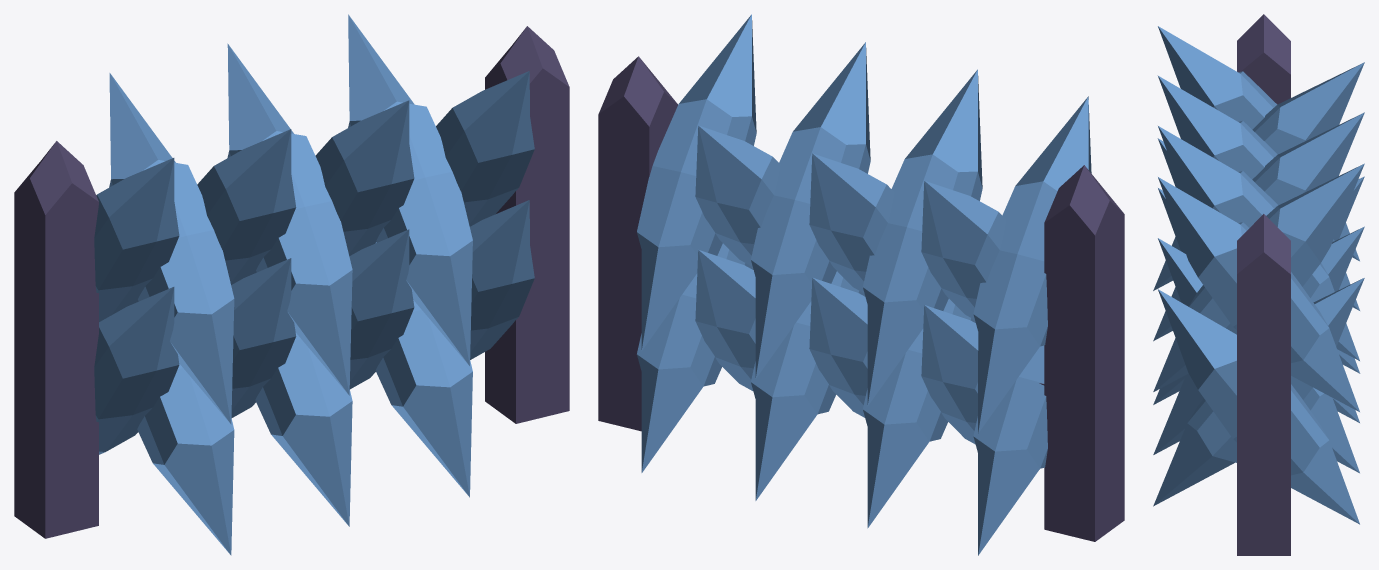
File: spikeyFence.glb
3 renders of one model, left to right at view 1: azimuth 30°, elevation 25°; view 2: azimuth 150°, elevation 25°; view 3: azimuth 270°, elevation 25°, orthographic. The views are drawn at different scales.
Parts seen in each view (by area): view 1: Cube.001, Cube.002, Cube.013, Cube.014, Cube.015, Cube.018, Cube.017, Cube.016, Cube.008, Cube.011, Cube.006, Cube.007 (+4 smaller); view 2: Cube.001, Cube.002, Cube.008, Cube.007, Cube.004, Cube.006, Cube.011, Cube.009, Cube.010, Cube.012, Cube.013, Cube.014 (+4 smaller); view 3: Cube.002, Cube.008, Cube.009, Cube.013, Cube.007, Cube.018, Cube.004, Cube.006, Cube.014, Cube.015, Cube.001, Cube.010 (+4 smaller).
Boxes of the visible parts, <box> form: Cube.001: <box>14,141,98,538</box>; Cube.002: <box>485,26,569,423</box>; Cube.013: <box>348,14,472,365</box>; Cube.014: <box>227,43,352,395</box>; Cube.015: <box>109,73,234,424</box>; Cube.018: <box>375,242,472,497</box>; Cube.017: <box>255,333,352,526</box>; Cube.016: <box>137,364,234,555</box>; Cube.008: <box>436,71,534,226</box>; Cube.011: <box>94,287,179,454</box>; Cube.006: <box>94,158,179,321</box>; Cube.007: <box>315,100,414,255</box>; Cube.001: <box>1044,165,1124,541</box>; Cube.002: <box>598,56,677,431</box>; Cube.008: <box>637,14,756,350</box>; Cube.007: <box>751,42,870,378</box>; Cube.004: <box>863,69,982,405</box>; Cube.006: <box>973,96,1091,433</box>; Cube.011: <box>973,345,1047,555</box>; Cube.009: <box>637,243,753,472</box>; Cube.010: <box>751,271,865,500</box>; Cube.012: <box>863,299,975,528</box>; Cube.013: <box>695,125,780,266</box>; Cube.014: <box>809,153,894,293</box>; Cube.002: <box>1237,214,1290,555</box>; Cube.008: <box>1158,177,1359,411</box>; Cube.009: <box>1158,289,1359,524</box>; Cube.013: <box>1153,163,1364,391</box>; Cube.007: <box>1158,126,1359,360</box>; Cube.018: <box>1153,278,1364,506</box>; Cube.004: <box>1157,75,1359,310</box>; Cube.006: <box>1158,26,1359,261</box>; Cube.014: <box>1153,112,1364,341</box>; Cube.015: <box>1153,62,1364,290</box>; Cube.001: <box>1237,14,1290,104</box>; Cube.010: <box>1158,238,1359,473</box>.
Size of the model in its own units: 3.77 by 2.81 by 1.52.
15 materials, 15 textured.
